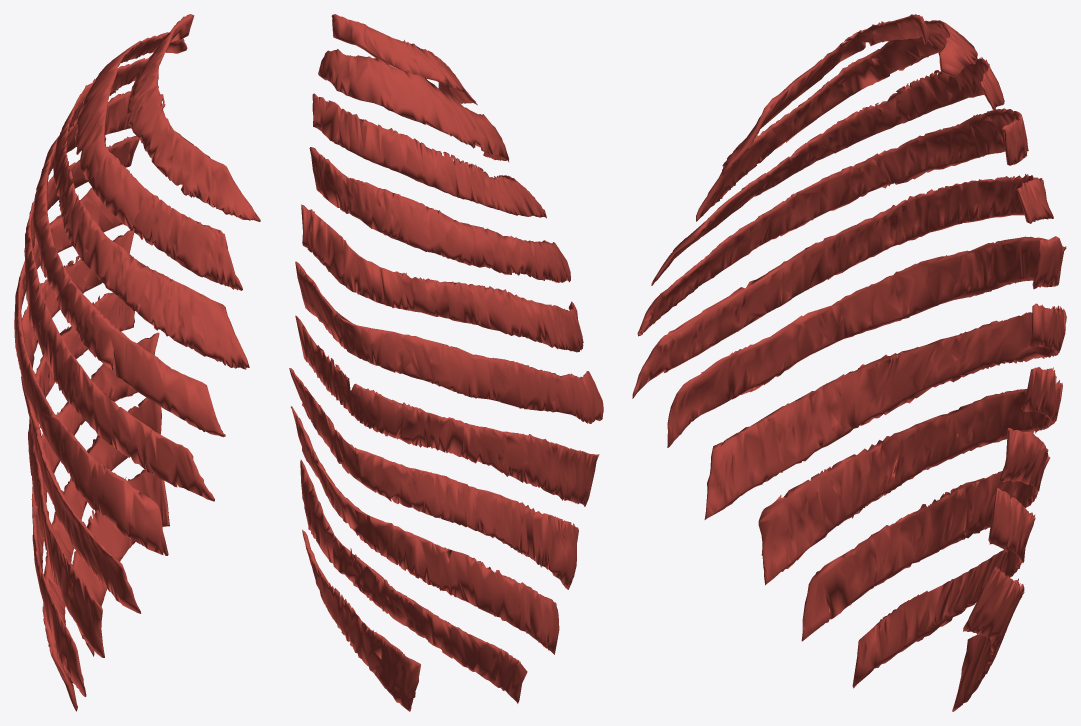
Rendered from musculos-external-intercostal-muscles-r.glb.
The picture shows the model from 3 angles, left to right: view 1: azimuth 30°, elevation 25°; view 2: azimuth 150°, elevation 25°; view 3: azimuth 270°, elevation 25°; orthographic projection. The views are drawn at different scales.
Parts seen in each view (by area): view 1: External intercostal muscles.r; view 2: External intercostal muscles.r; view 3: External intercostal muscles.r.
Part boxes in pixels (bbox=[...]): External intercostal muscles.r: bbox=[14, 14, 260, 711]; External intercostal muscles.r: bbox=[289, 14, 603, 711]; External intercostal muscles.r: bbox=[632, 14, 1066, 711].
Bounding box in the file's own units: 0.1118 × 0.3722 × 0.1948.
